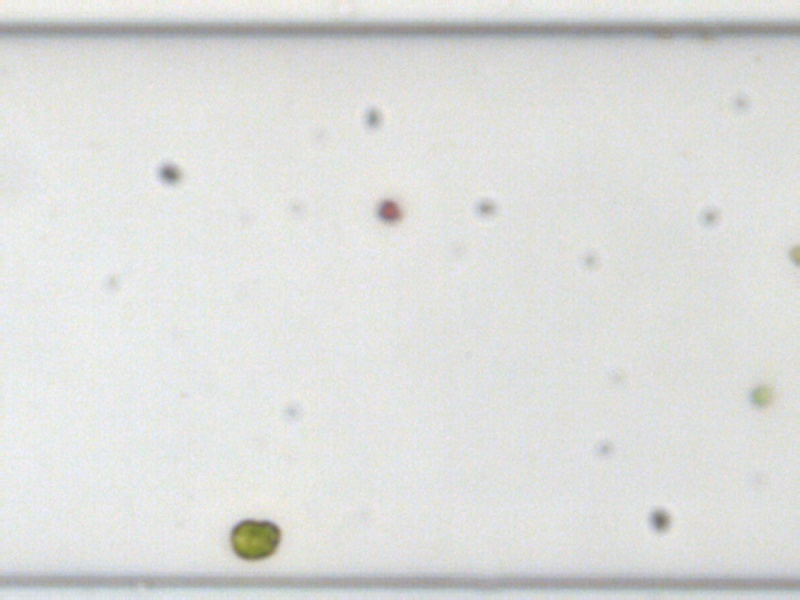Chlorella: (748, 384, 768, 404)
Platymonas: (226, 518, 280, 562)
Porphyridium: (376, 197, 402, 221)
